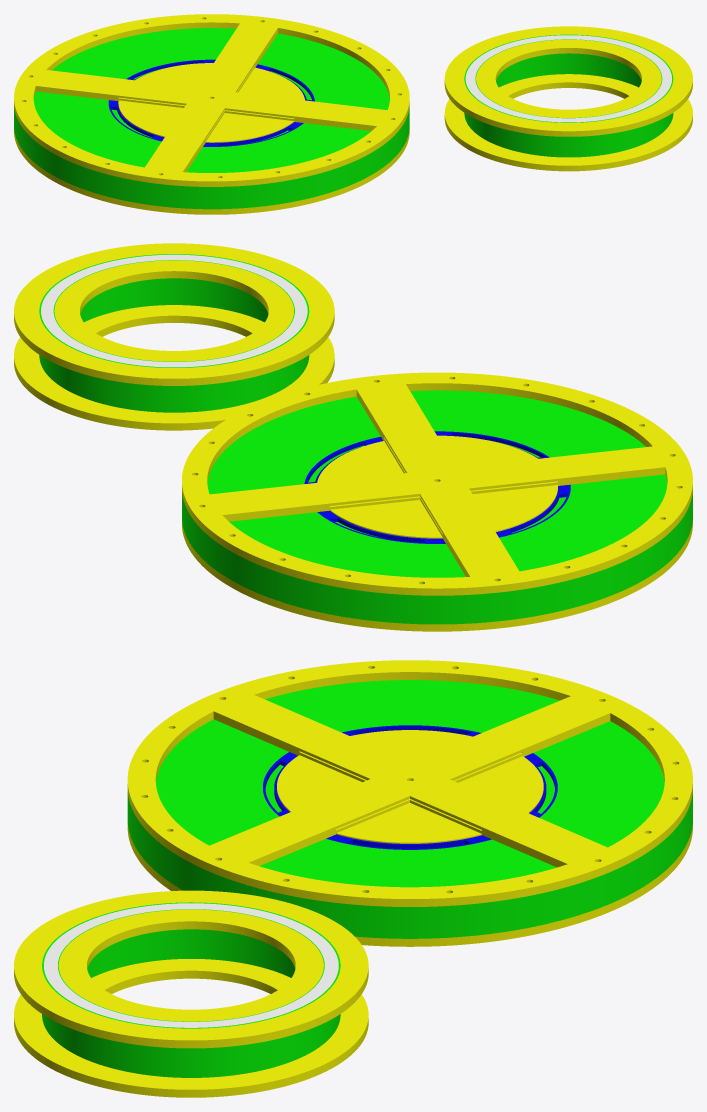
File: modelo1.glb
3 views of the same model, one above another, from view 1: azimuth 30°, elevation 25°; view 2: azimuth 150°, elevation 25°; view 3: azimuth 270°, elevation 25° (orthographic). The views are drawn at different scales.
Parts seen in each view (by area): view 1: MESH 20, MESH 29, MESH 8, MESH 15, MESH 3, MESH 12, MESH 10, MESH 16, MESH 7, MESH 13, MESH 14, MESH 5 (+7 smaller); view 2: MESH 20, MESH 29, MESH 8, MESH 15, MESH 3, MESH 12, MESH 16, MESH 10, MESH 7, MESH 13, MESH 14, MESH 5 (+6 smaller); view 3: MESH 20, MESH 29, MESH 8, MESH 15, MESH 3, MESH 12, MESH 10, MESH 16, MESH 7, MESH 13, MESH 5, MESH 14 (+7 smaller).
Boxes of the visible parts, x1,y1,x2,y2 form: MESH 20: (14, 28, 409, 209); MESH 29: (14, 14, 409, 184); MESH 8: (444, 26, 692, 133); MESH 15: (118, 63, 304, 142); MESH 3: (476, 39, 661, 117); MESH 12: (464, 34, 673, 157); MESH 10: (444, 99, 692, 168); MESH 16: (14, 25, 409, 186); MESH 7: (475, 39, 662, 118); MESH 13: (465, 35, 671, 122); MESH 14: (108, 59, 314, 146); MESH 5: (499, 74, 638, 97); MESH 20: (182, 390, 692, 624); MESH 29: (182, 372, 692, 591); MESH 8: (14, 243, 334, 382); MESH 15: (317, 435, 557, 538); MESH 3: (54, 260, 293, 361); MESH 12: (39, 254, 309, 412); MESH 16: (182, 387, 692, 595); MESH 10: (14, 337, 334, 426); MESH 7: (53, 260, 294, 361); MESH 13: (41, 254, 307, 367); MESH 14: (304, 431, 570, 543); MESH 5: (84, 305, 264, 334); MESH 20: (127, 680, 692, 938); MESH 29: (127, 660, 692, 902); MESH 8: (14, 890, 368, 1044); MESH 15: (277, 730, 543, 843); MESH 3: (58, 909, 323, 1021); MESH 12: (42, 902, 340, 1077); MESH 10: (14, 994, 368, 1093); MESH 16: (127, 676, 692, 906); MESH 7: (58, 909, 324, 1021); MESH 13: (44, 903, 338, 1027); MESH 5: (91, 959, 291, 991); MESH 14: (263, 725, 557, 849).
Bounding box in the file's own units: 131 × 9 × 96.69.
